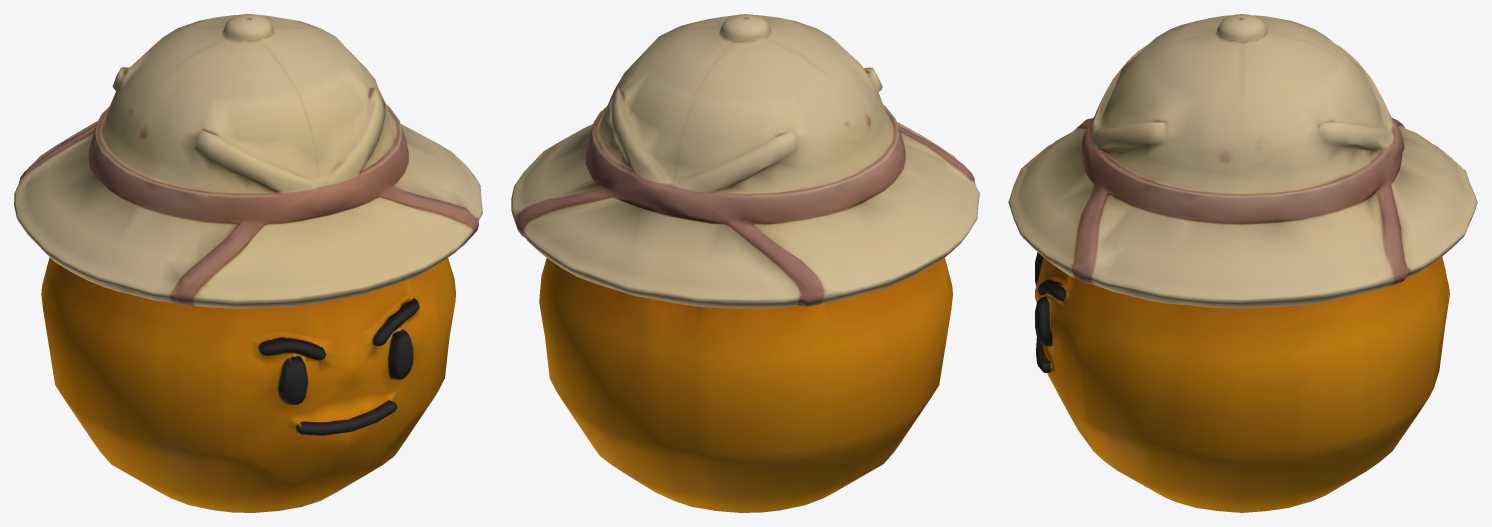
File: chomp-base.glb
The picture shows the model from 3 angles, left to right: view 1: azimuth 30°, elevation 25°; view 2: azimuth 150°, elevation 25°; view 3: azimuth 270°, elevation 25°; orthographic projection.
Size of the model in its own units: 1.81 by 2 by 1.82.
1 material, 1 textured.
